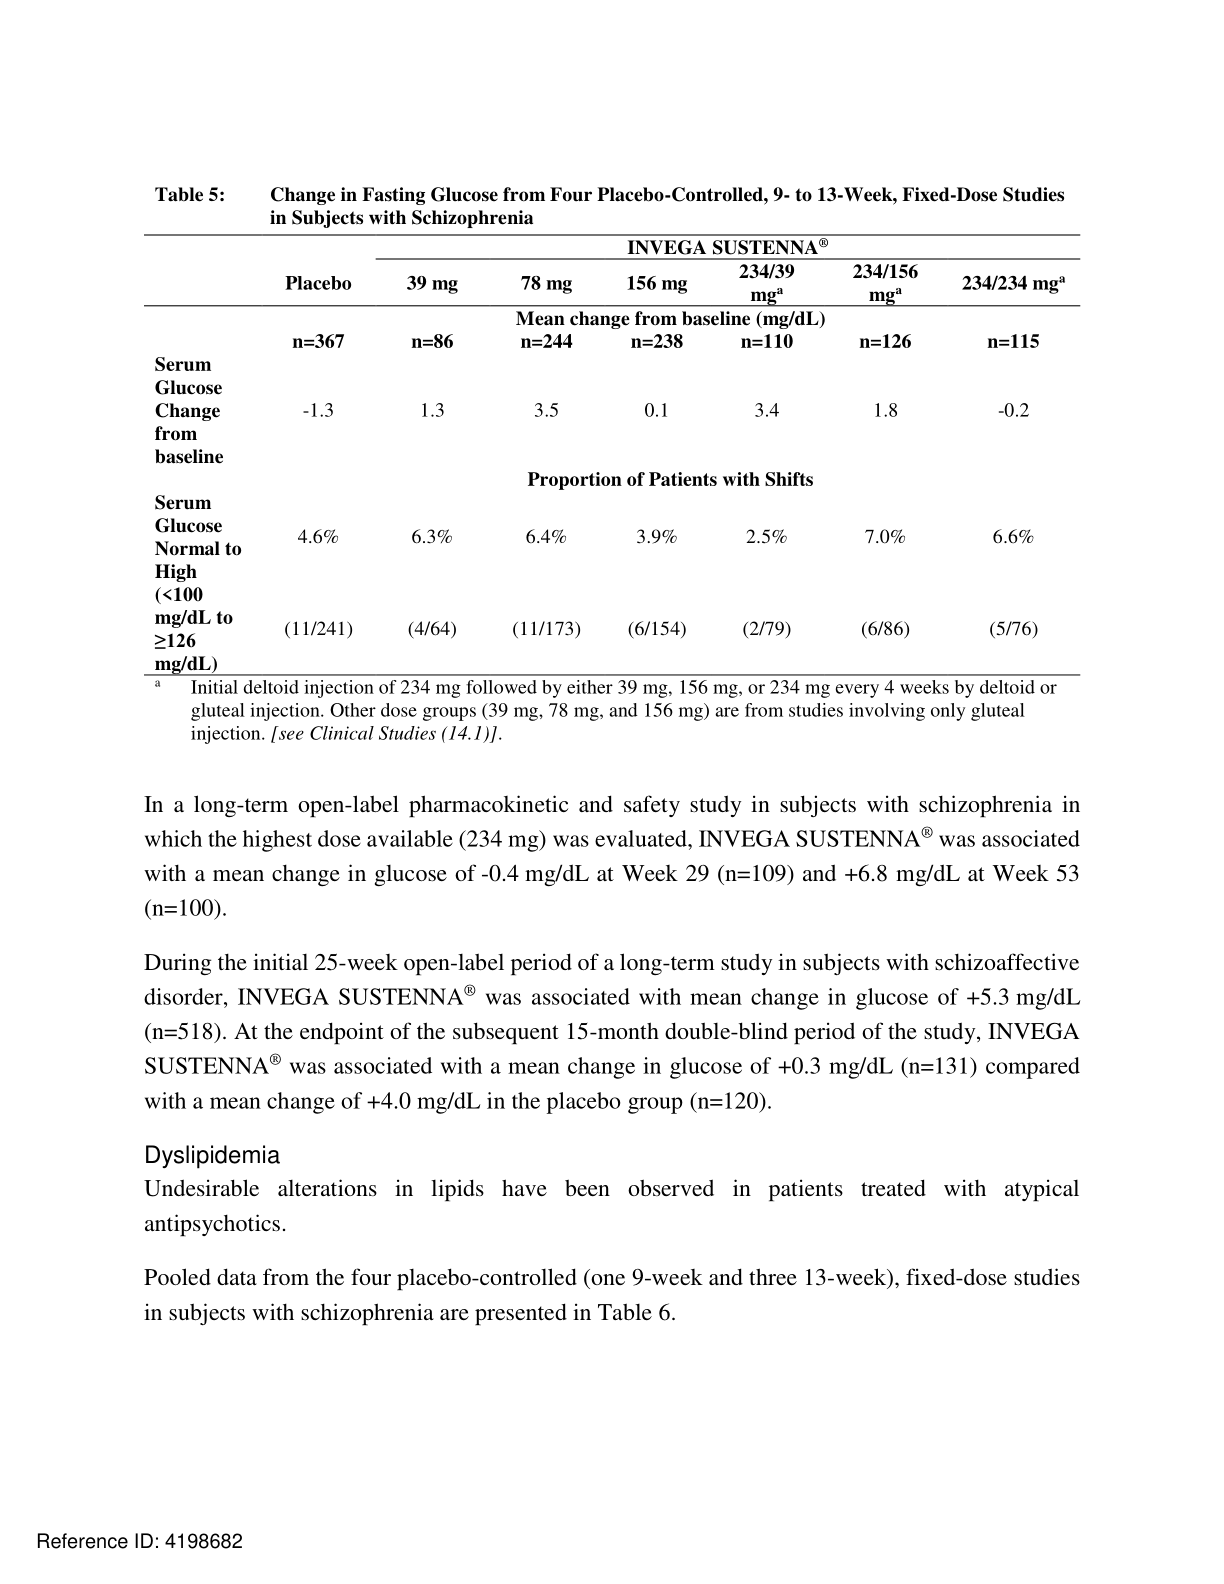partial_lined_merged_cells: (143, 231, 1086, 678)
